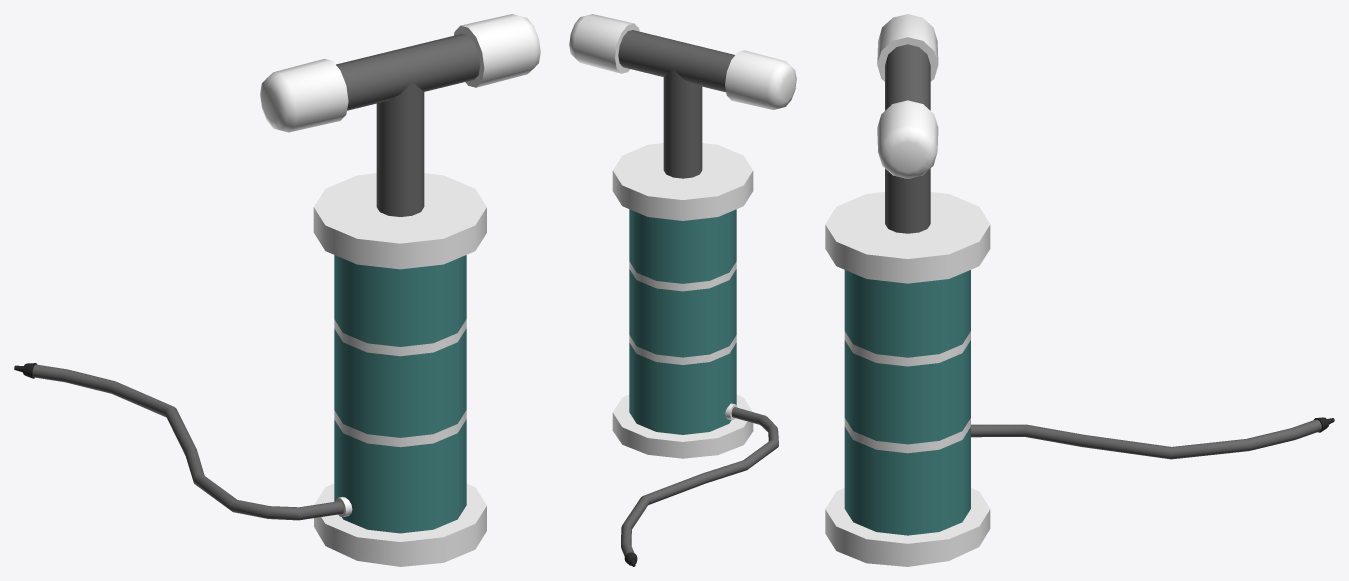
File: Tire Inflator_1.fbx
3 views of the same model, side by side, from view 1: azimuth 30°, elevation 25°; view 2: azimuth 150°, elevation 25°; view 3: azimuth 270°, elevation 25° (orthographic). The views are drawn at different scales.
Visible parts, largest first — view 1: Tire Inflator_1; view 2: Tire Inflator_1; view 3: Tire Inflator_1.
Boxes of the visible parts, x1=… form: Tire Inflator_1: x1=14, y1=14, x2=540, y2=566; Tire Inflator_1: x1=569, y1=14, x2=796, y2=566; Tire Inflator_1: x1=825, y1=14, x2=1334, y2=566.
Bounding box in the file's own units: 0.2499 × 0.3957 × 0.3932.
